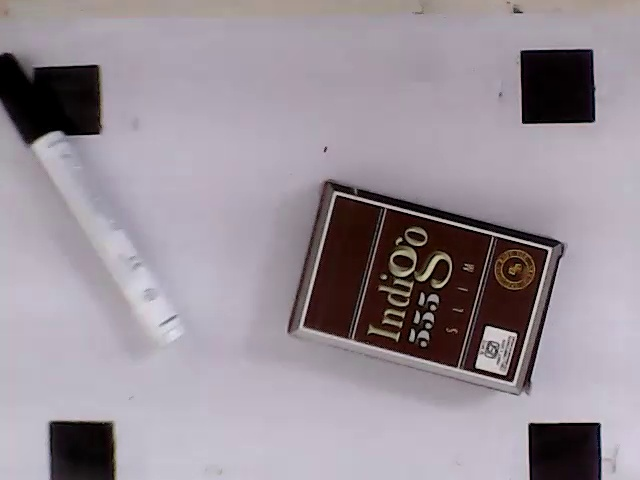BEX: (305, 196, 551, 384)
